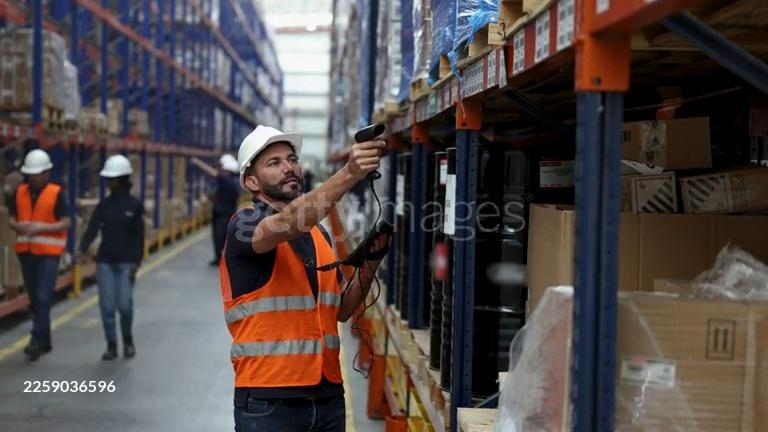helmet: (237, 124, 303, 179), (18, 148, 54, 175), (99, 154, 136, 178), (219, 154, 240, 174)
person: (219, 126, 396, 432), (76, 154, 146, 360), (8, 149, 74, 361), (210, 155, 239, 268)
